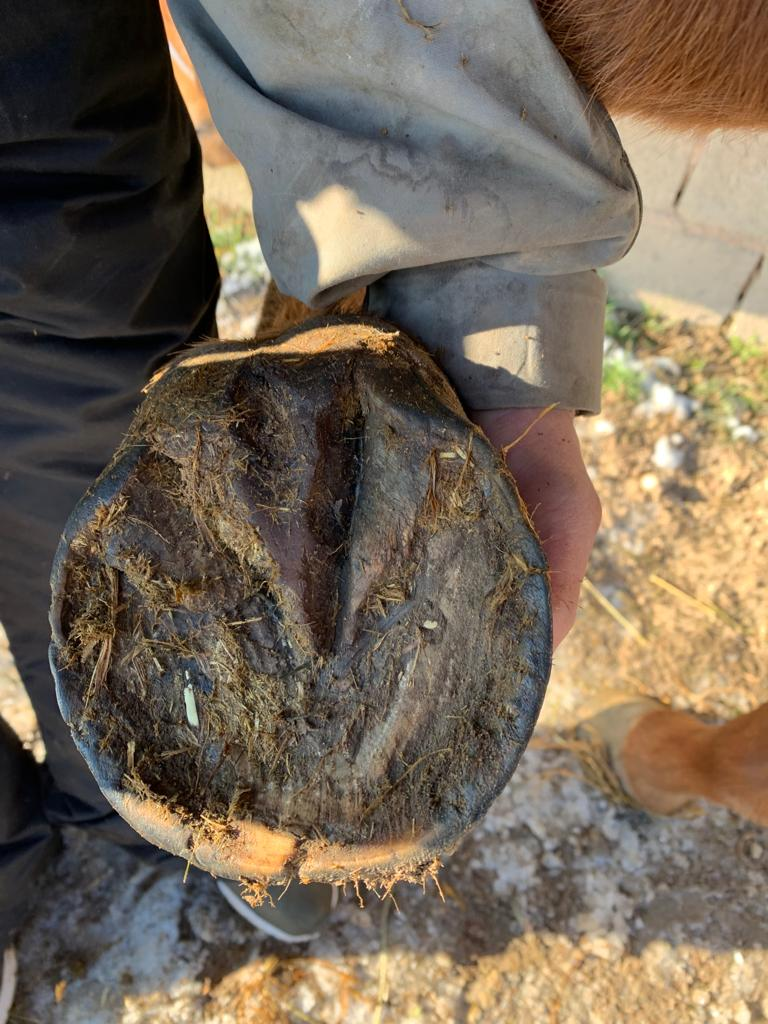horsesole: (46, 373, 551, 884)
